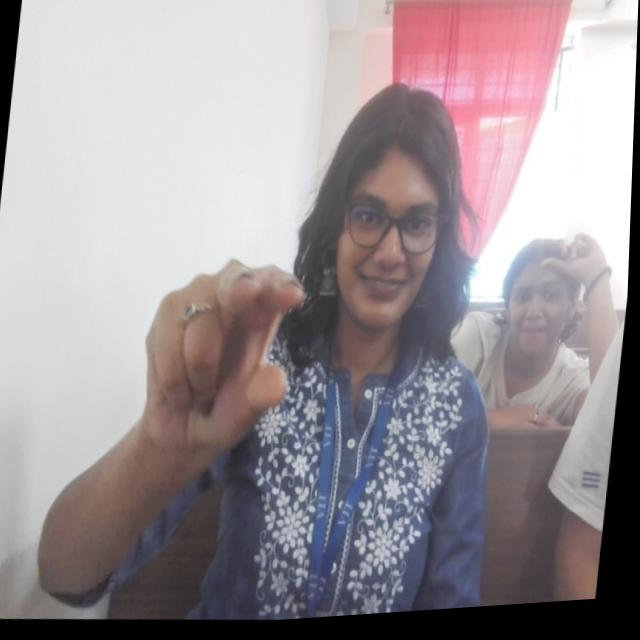no: (134, 249, 313, 471)
